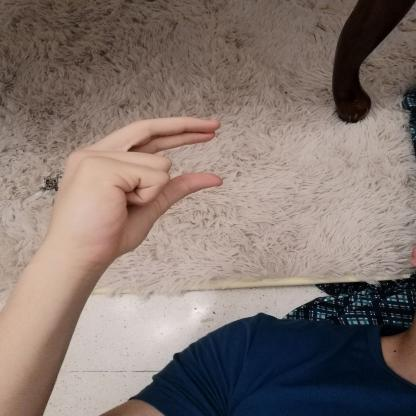DHELL: (40, 109, 237, 274)
